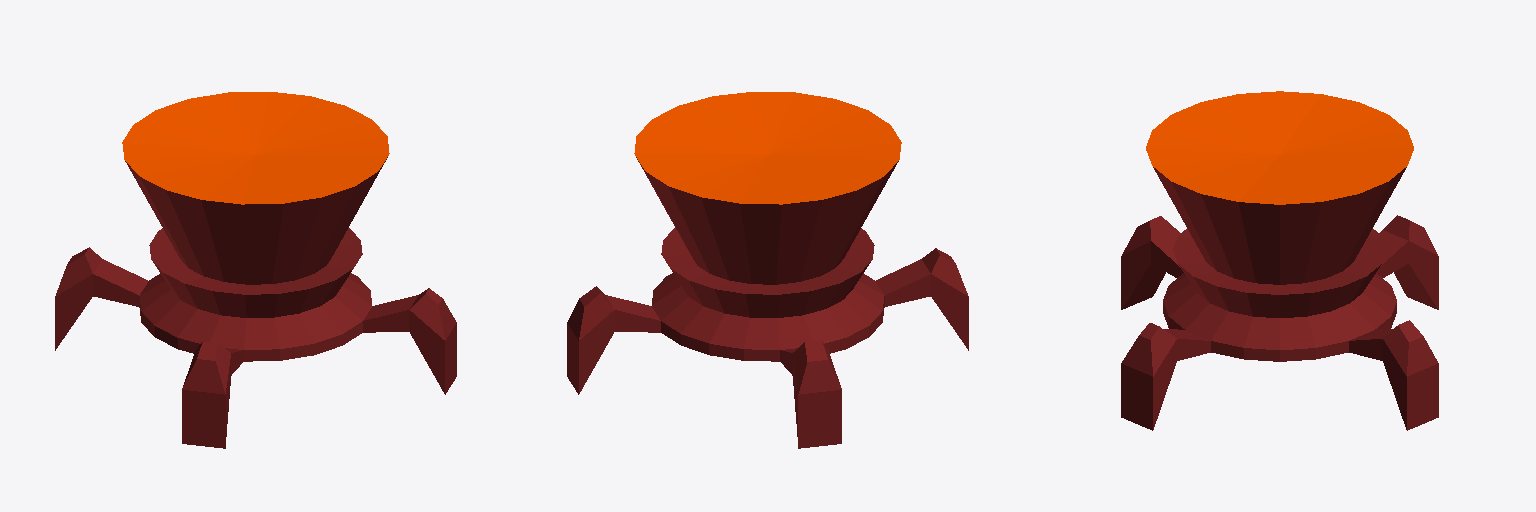
File: robot.obj
3 renders of one model, left to right at view 1: azimuth 30°, elevation 25°; view 2: azimuth 150°, elevation 25°; view 3: azimuth 270°, elevation 25°, orthographic.
Parts seen in each view (by area): view 1: pCylinder1; view 2: pCylinder1; view 3: pCylinder1.
Boxes of the visible parts, x1,y1,x2,y2 form: pCylinder1: [55, 92, 456, 448]; pCylinder1: [567, 92, 968, 448]; pCylinder1: [1121, 91, 1438, 430].
Bounding box in the file's own units: 2.71 × 2.03 × 2.71.